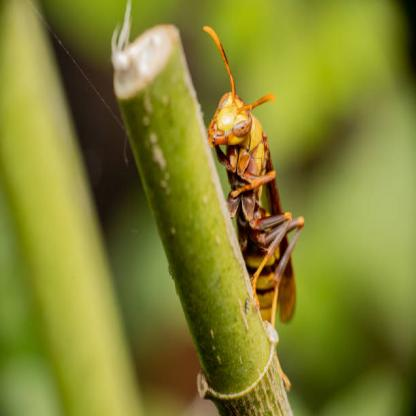sawfly: (200, 20, 305, 336)
